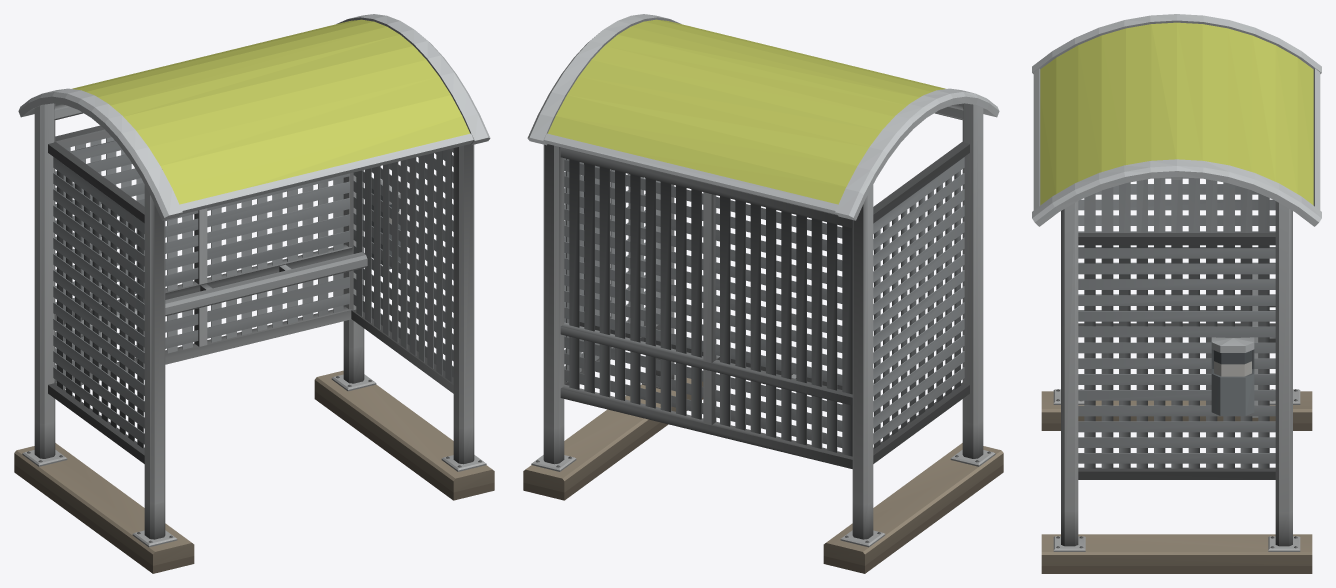
The model's file is shelter.glb.
3 views of the same model, side by side, from view 1: azimuth 30°, elevation 25°; view 2: azimuth 150°, elevation 25°; view 3: azimuth 270°, elevation 25° (orthographic). The views are drawn at different scales.
Visible parts, largest first — view 1: shelter.001; view 2: shelter.001; view 3: shelter.001.
Part boxes in pixels (<box>): shelter.001: <box>14,14,494,573</box>; shelter.001: <box>523,14,1003,573</box>; shelter.001: <box>1032,14,1321,573</box>.
Bounding box in the file's own units: 1.99 × 2.3 × 1.5.
